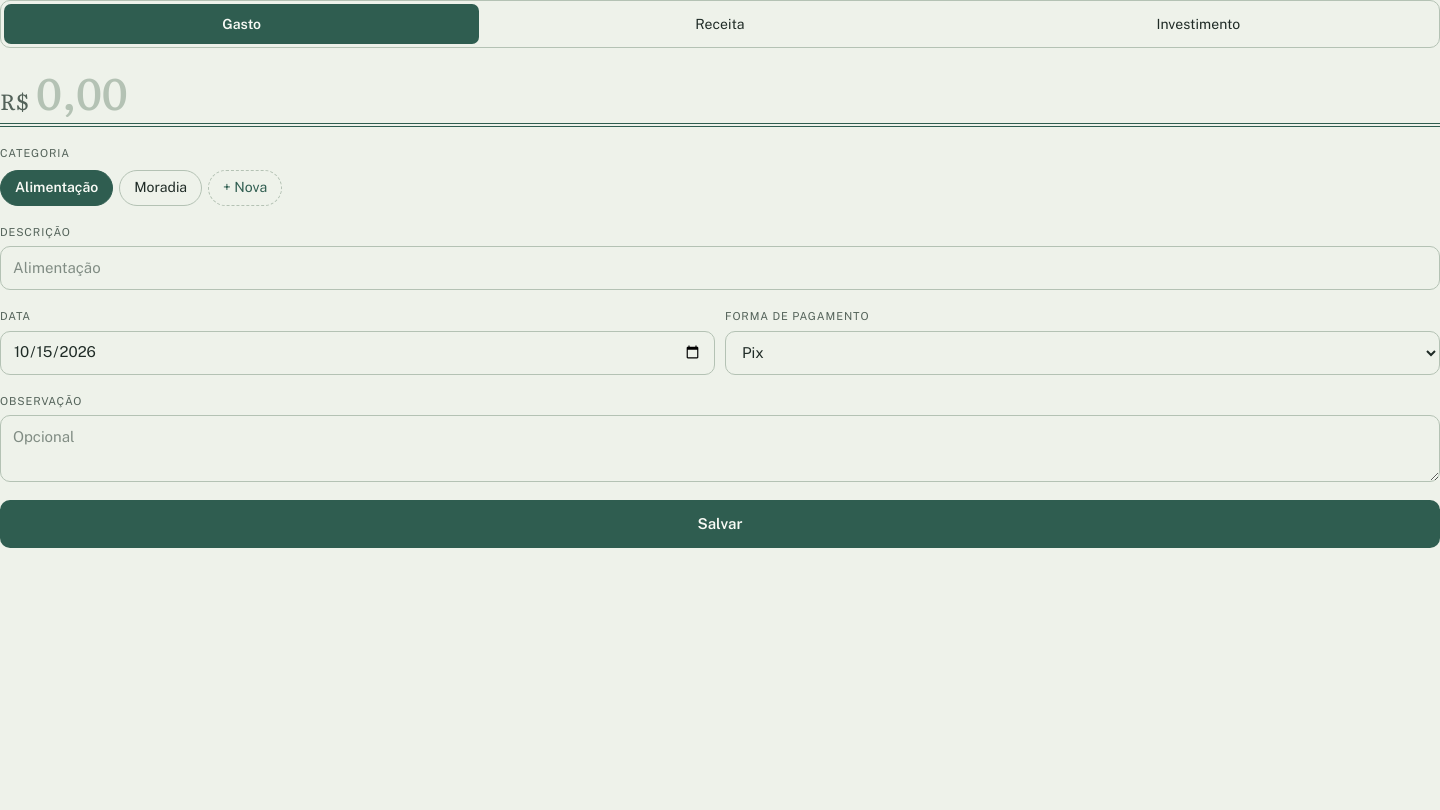
Test: TransactionForm › criação rápida de categoria › quando a criação falha mostra o erro da API no modal, que continua aberto com o nome digitado
Click the button with aria-label "Nova categoria".
click(245, 188)  # box [208,170,282,206]
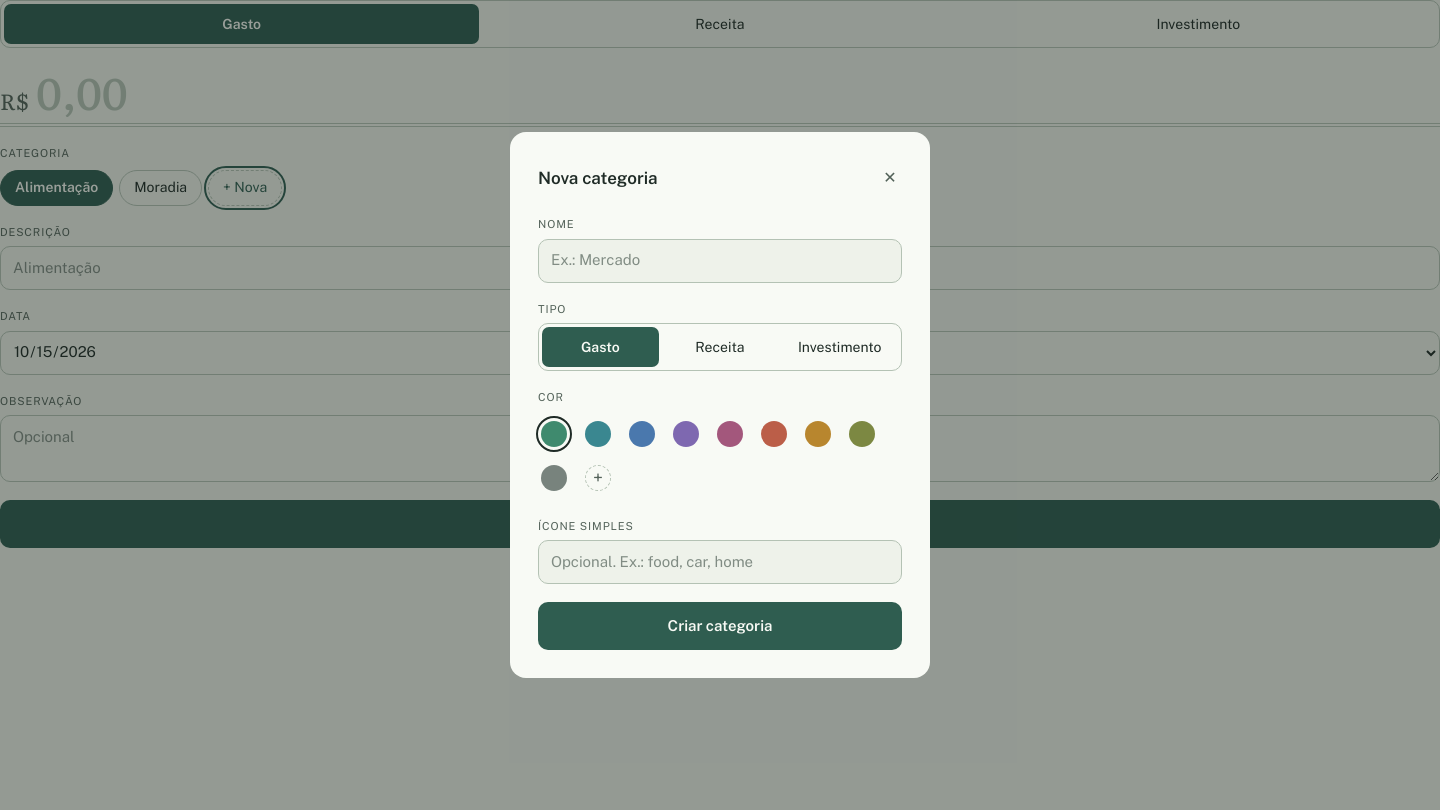
Type "Moradia" into the field labelled "Nome".
click(720, 260); type("Moradia")  # box [538,238,902,282]
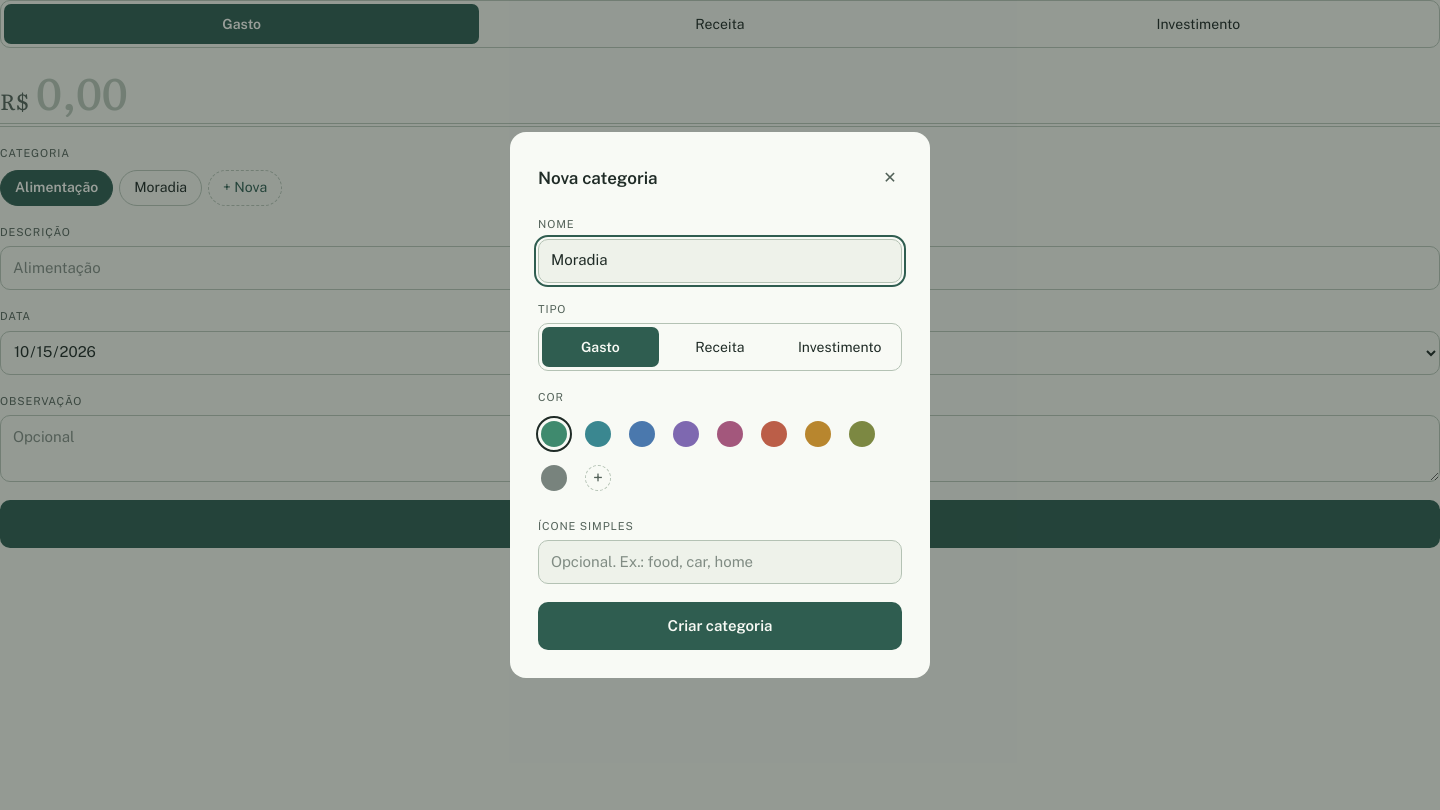
Click the button "Criar categoria".
click(720, 626)  # box [538,602,902,650]
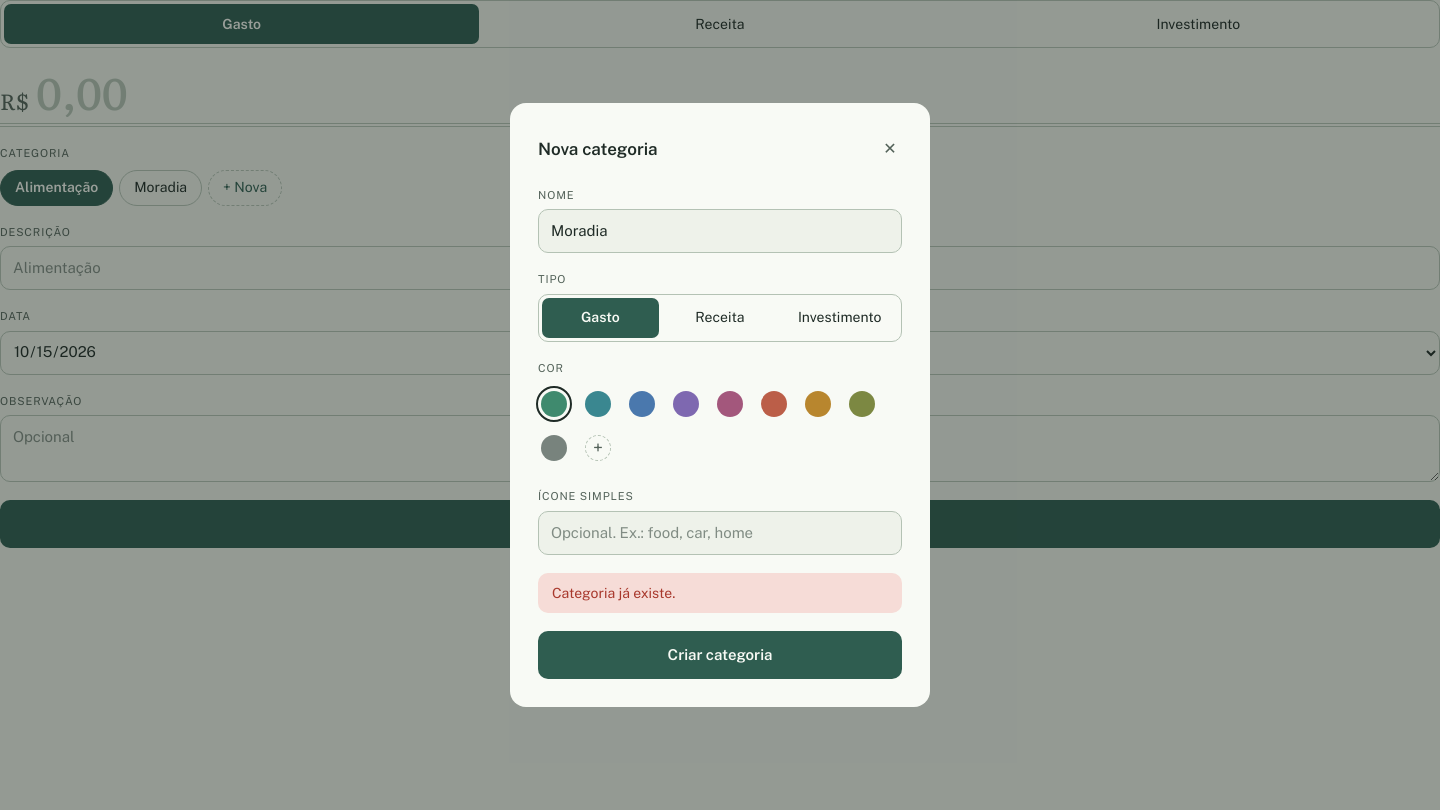
Expected: the radio button labelled "Alimentação" is shown, [0,170,113,206]
Expected: the message reads "Categoria já existe.", [552,585,675,601]
